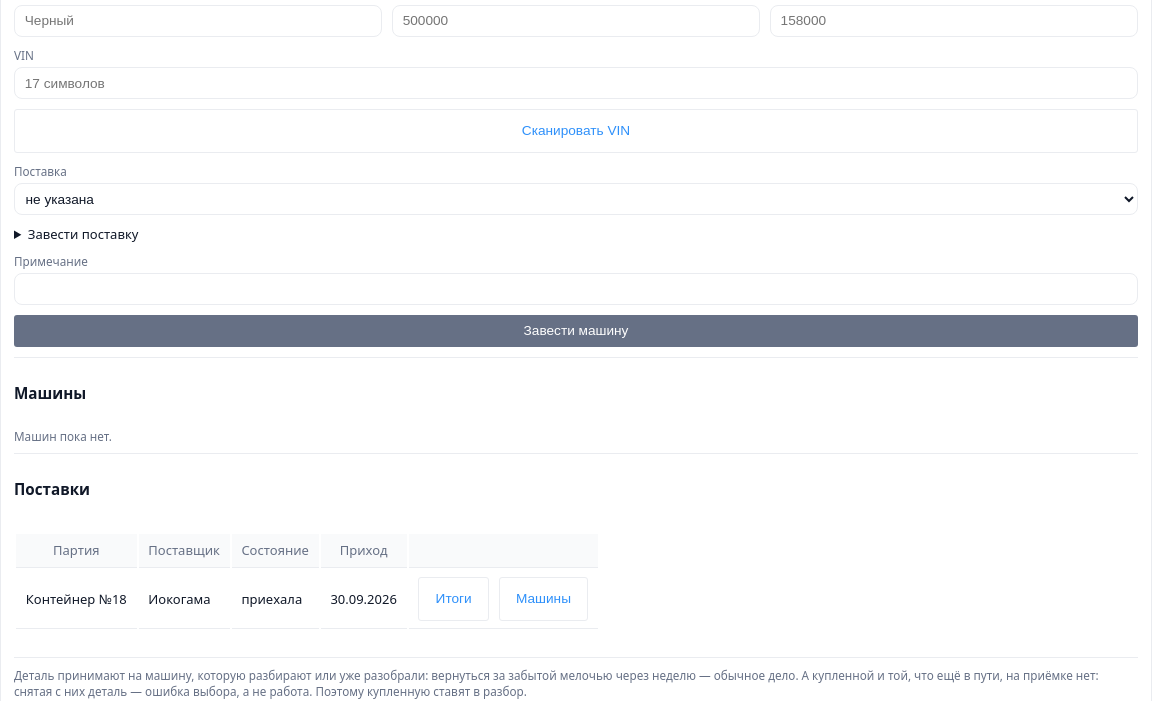
Test: поставка: итоги › не смогли узнать — говорит причину, а не нули
The width and height of the screenshot is (1152, 701).
(page scrolled)
Step 1. Click the button "Итоги" → (454, 599), box 418,577 -> 489,621
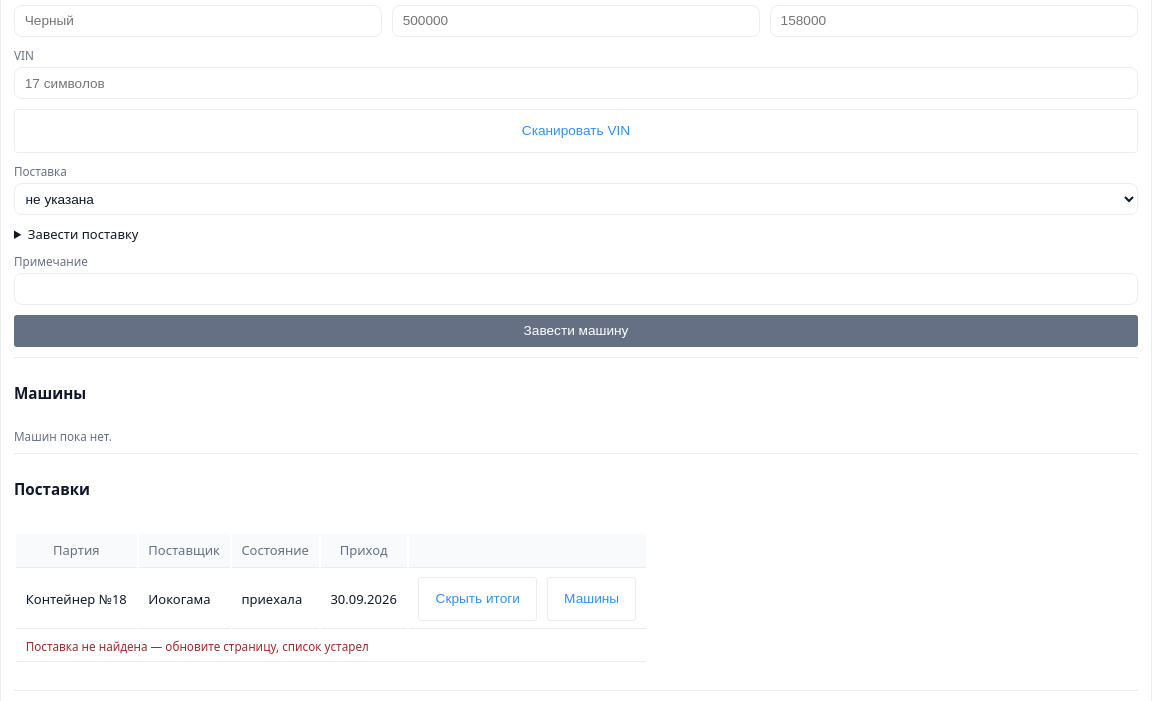
Expected: the text "Поставка не найдена — обновите страницу, список устарел" is shown, 26,638 -> 369,654
